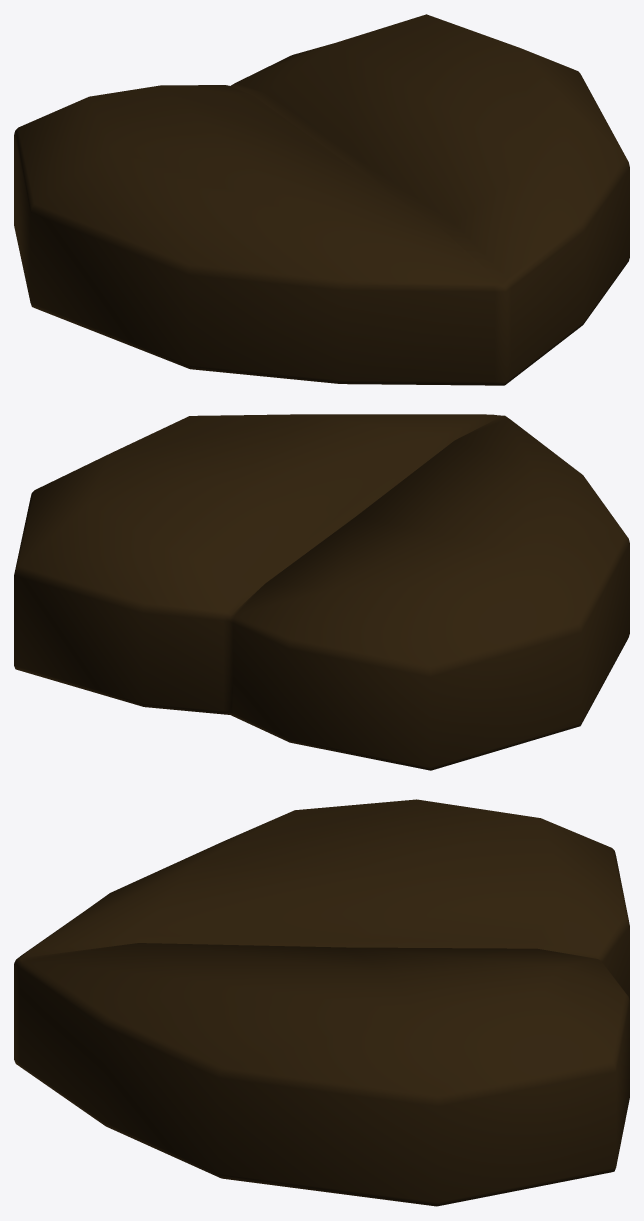
The model's file is Chocolate.glb.
The picture shows the model from 3 angles, top to bottom: view 1: azimuth 30°, elevation 25°; view 2: azimuth 150°, elevation 25°; view 3: azimuth 270°, elevation 25°; orthographic projection. The views are drawn at different scales.
Visible parts, largest first — view 1: Chocolate.002; view 2: Chocolate.002; view 3: Chocolate.002.
Part boxes in pixels (x1=…): Chocolate.002: x1=14, y1=14, x2=629, y2=385; Chocolate.002: x1=14, y1=414, x2=629, y2=770; Chocolate.002: x1=14, y1=799, x2=629, y2=1206.
Bounding box in the file's own units: 246 × 64.23 × 224.
Materials: 1 (1 with a texture image).
